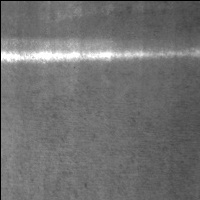scratches: (1, 37, 200, 65)
